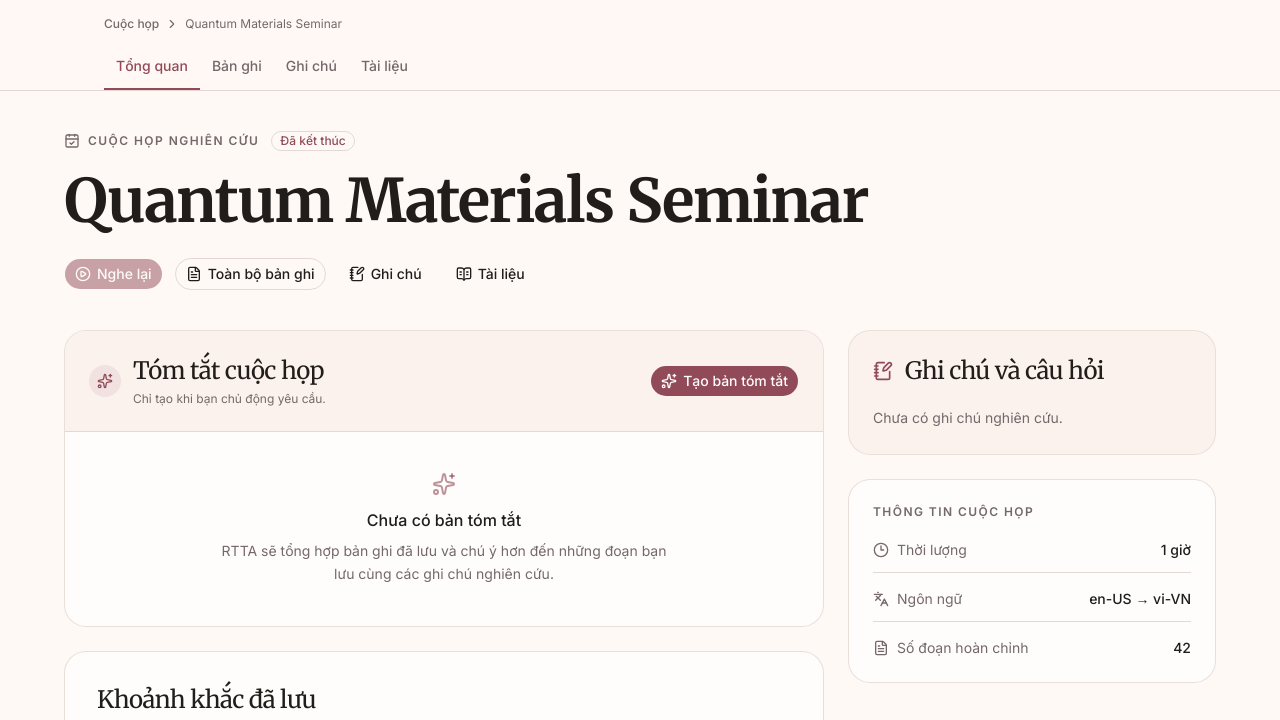
Scenario: CompletedMeetingOverview › generates only after explicit user action and retains the response
This screenshot has width=1280, height=720.
Expected: the text "Chưa có bản tóm tắt" is shown, [367,510,521,530]
Click the button "Tạo bản tóm tắt": (725, 381) [650,365,799,397]
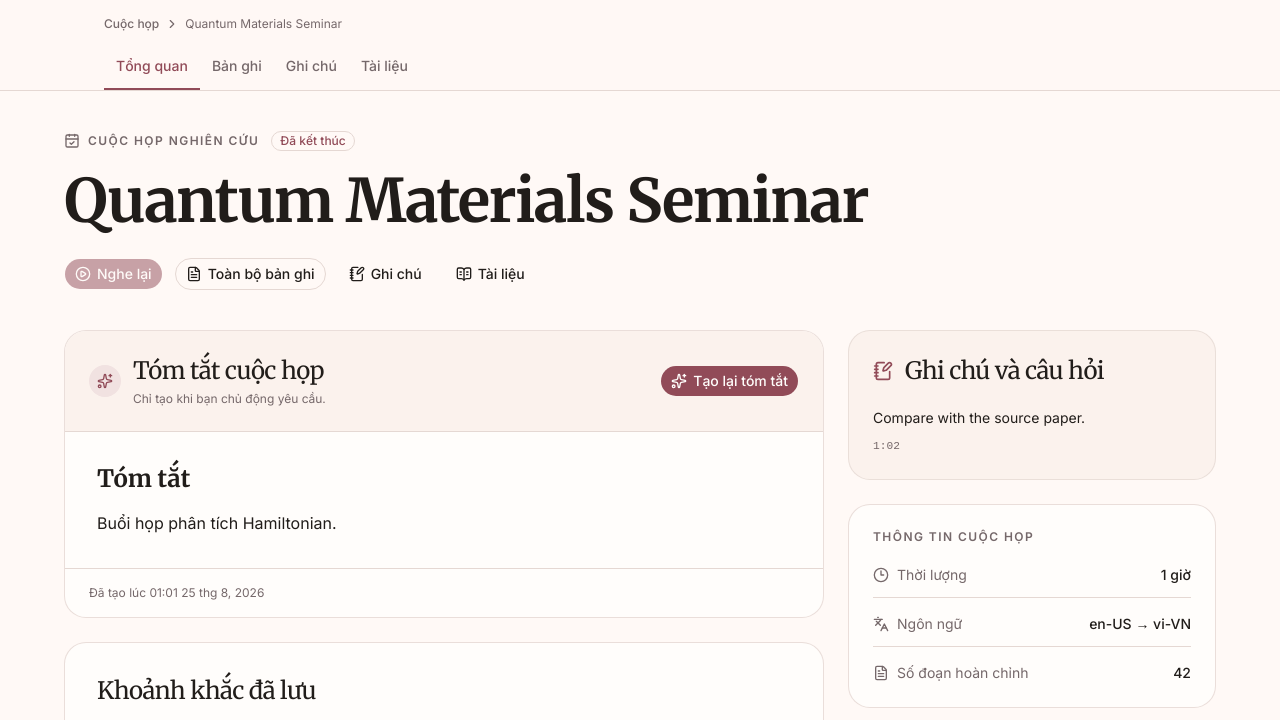
Now the text "Buổi họp phân tích Hamiltonian." is shown, box [97,513,337,533]
